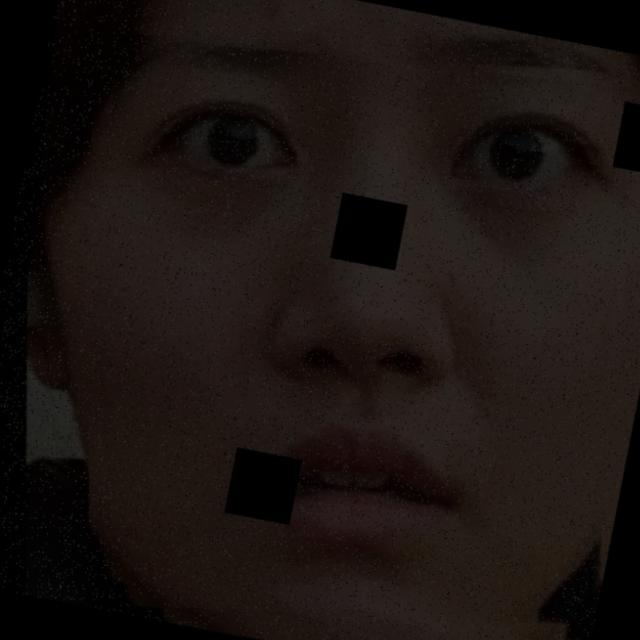Surprised: (91, 53, 639, 629)
